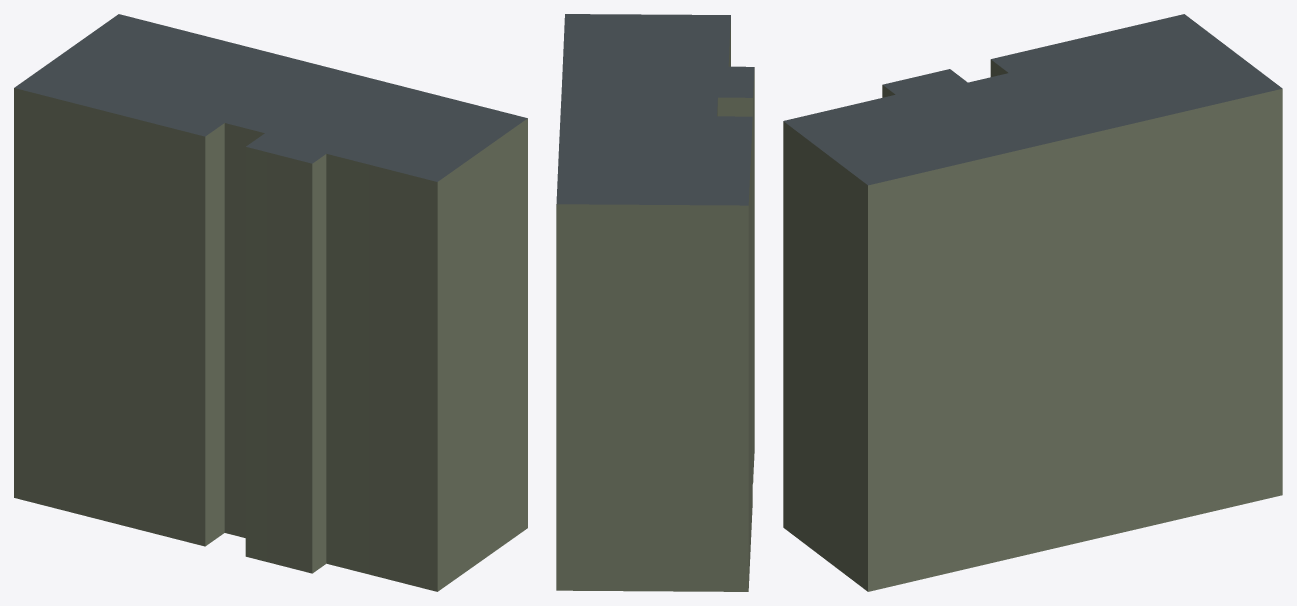
Rendered from nyc-1034219-0.glb.
3 renders of one model, left to right at view 1: azimuth 30°, elevation 25°; view 2: azimuth 150°, elevation 25°; view 3: azimuth 270°, elevation 25°, orthographic. The views are drawn at different scales.
Parts seen in each view (by area): view 1: nyc-1034219-0; view 2: nyc-1034219-0; view 3: nyc-1034219-0.
Boxes of the visible parts, bbox=[...] form: nyc-1034219-0: bbox=[14, 14, 527, 591]; nyc-1034219-0: bbox=[556, 14, 754, 591]; nyc-1034219-0: bbox=[783, 14, 1282, 591].
Bounding box in the file's own units: 27.19 × 30.06 × 33.48.
